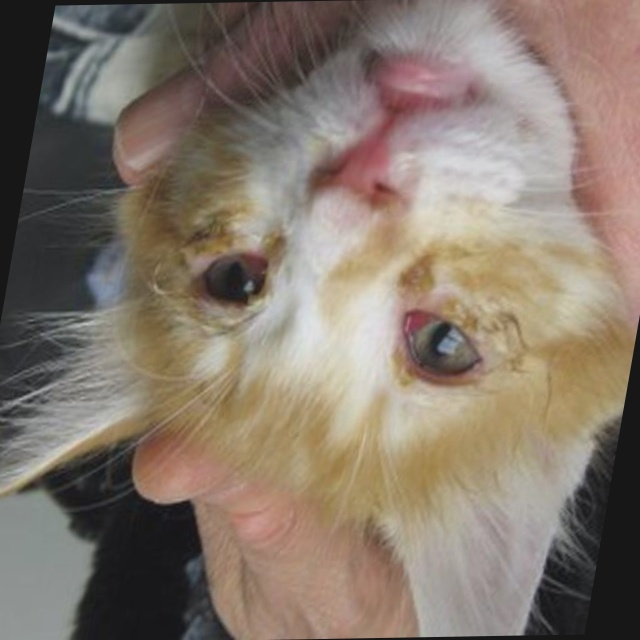eye_infection: (390, 293, 501, 385), (188, 244, 276, 312)
